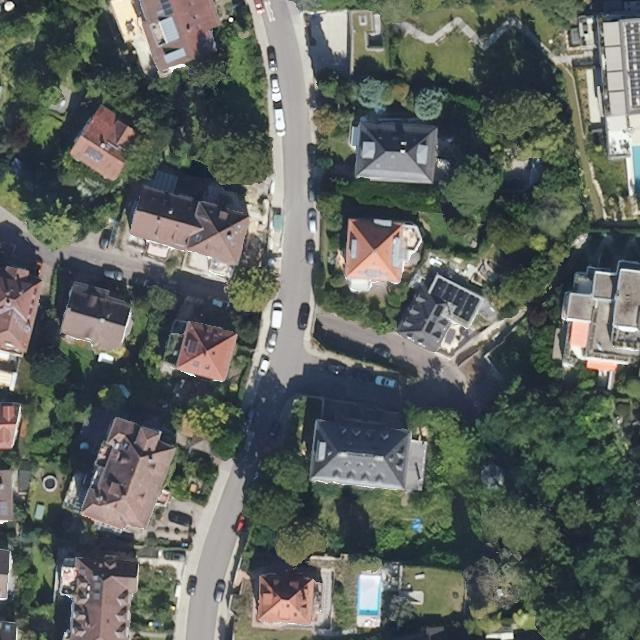PV: (187, 338, 197, 354)
